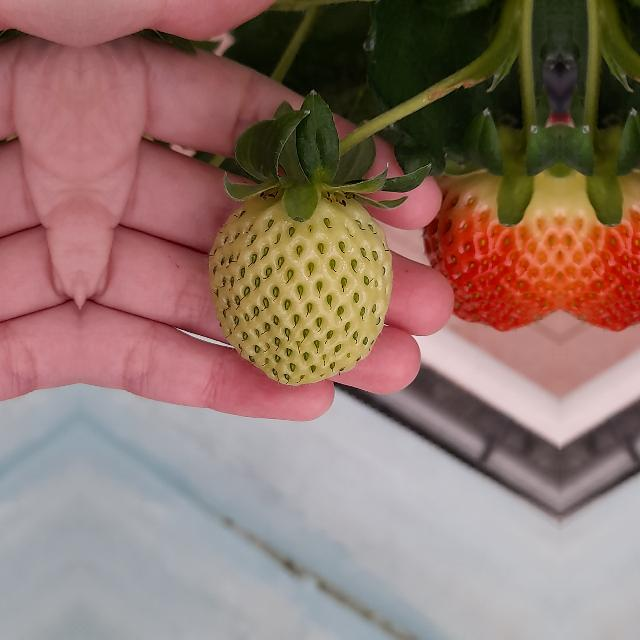Health_100: (424, 162, 560, 334), (560, 162, 640, 333)
Health_25: (208, 194, 392, 386)
